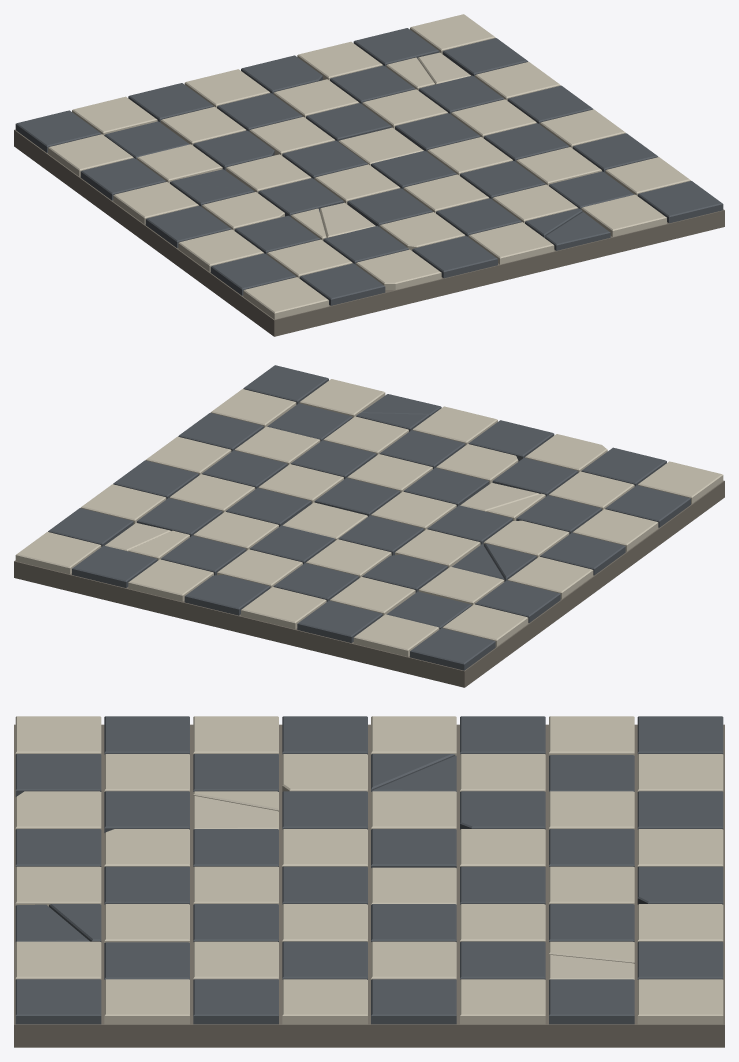
Rendered from SM_LPD_Floor_PavingChequer_01.fbx.
3 renders of one model, top to bottom at view 1: azimuth 30°, elevation 25°; view 2: azimuth 150°, elevation 25°; view 3: azimuth 270°, elevation 25°, orthographic. The views are drawn at different scales.
Visible parts, largest first — view 1: SM_LPD_Floor_PavingChequer_01; view 2: SM_LPD_Floor_PavingChequer_01; view 3: SM_LPD_Floor_PavingChequer_01.
Boxes of the visible parts, bbox=[...] form: SM_LPD_Floor_PavingChequer_01: bbox=[14, 14, 724, 336]; SM_LPD_Floor_PavingChequer_01: bbox=[14, 365, 724, 687]; SM_LPD_Floor_PavingChequer_01: bbox=[14, 716, 724, 1047].
Bounding box in the file's own units: 4 × 0.2 × 4.
